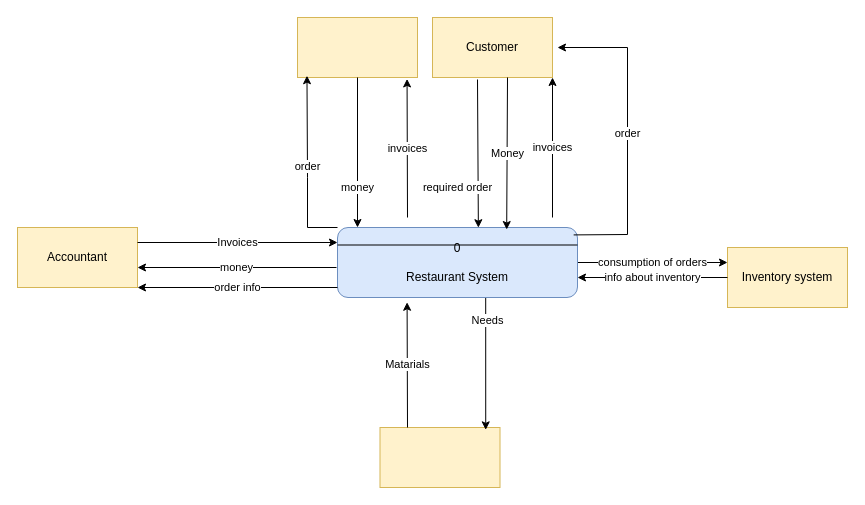
Some shapes in this 865 by 505 pixel diagram are drawn without their labels. Here are the shapes that lost their labels. From the top down, the centre of each, then its label:
At point 357,47: "Delivery".
At point 439,457: "Supplier".
